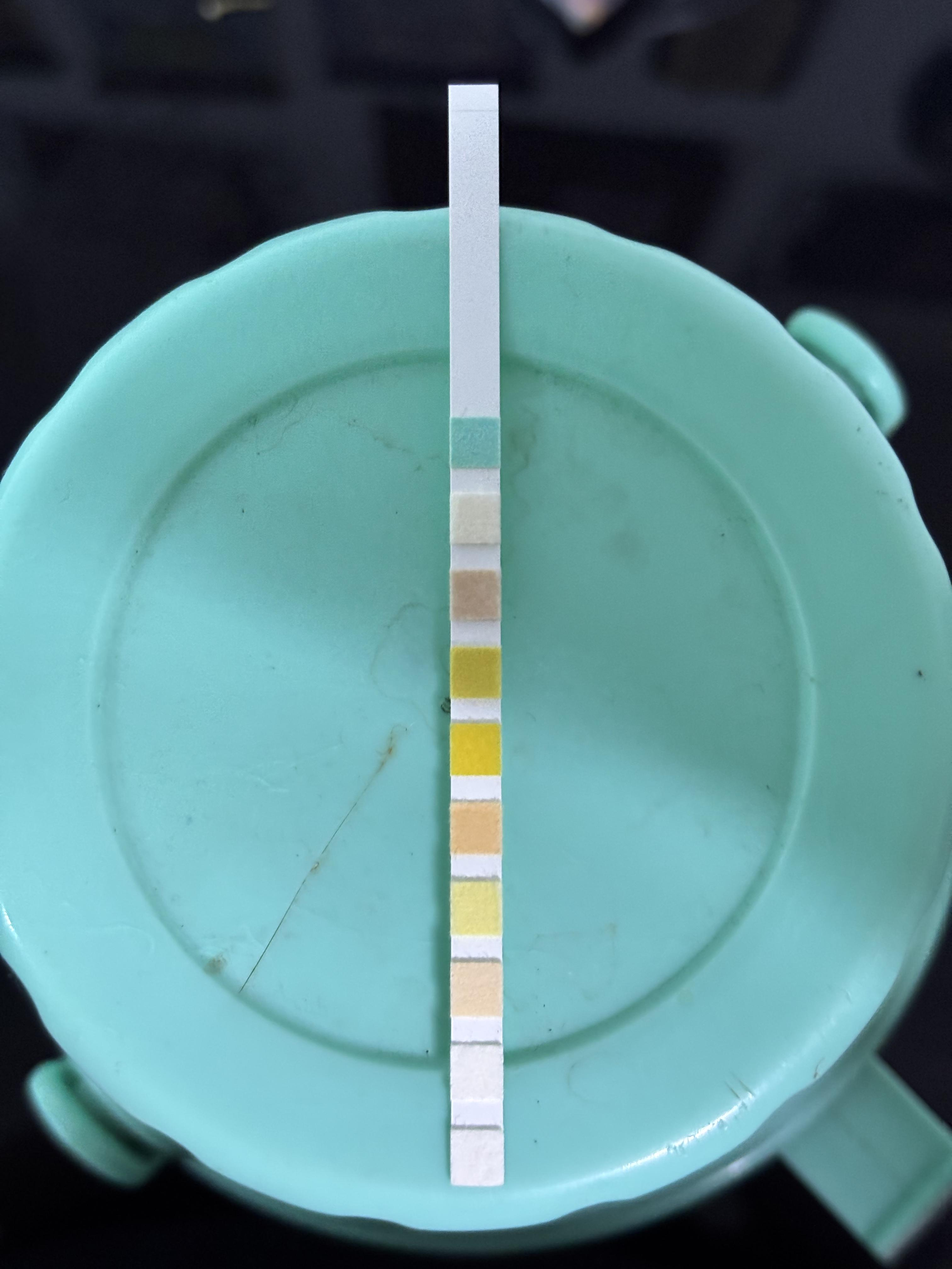Bilirubin: (453, 498, 499, 543)
Blood: (452, 724, 499, 773)
Glucose: (452, 420, 498, 465)
Ketone: (452, 573, 500, 618)
Leukocytes: (452, 1133, 502, 1180)
Nitrite: (451, 1049, 501, 1095)
Protein: (451, 884, 500, 933)
SpGravity: (452, 649, 500, 698)
Urobilinogen: (452, 964, 500, 1013)
pH: (451, 804, 500, 852)
strip: (450, 149, 503, 1185)
